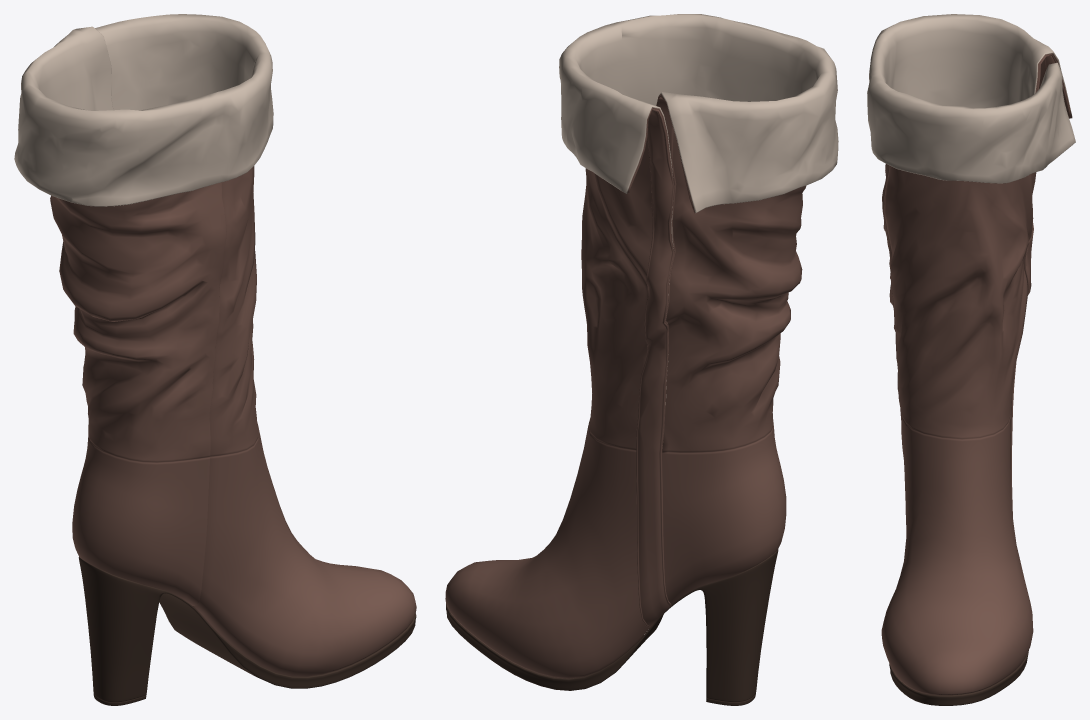
3 renders of one model, left to right at view 1: azimuth 30°, elevation 25°; view 2: azimuth 150°, elevation 25°; view 3: azimuth 270°, elevation 25°, orthographic. The views are drawn at different scales.
Parts seen in each view (by area): view 1: Boot_L; view 2: Boot_L; view 3: Boot_L.
Boxes of the visible parts, x1,y1,x2,y2 form: Boot_L: (14, 14, 416, 705); Boot_L: (445, 14, 838, 705); Boot_L: (867, 14, 1075, 705).
Size of the model in its own units: 22.88 by 36.61 by 12.47.
